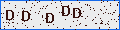D: (73, 8, 81, 18), (62, 6, 70, 16), (46, 13, 54, 23), (22, 11, 30, 21), (6, 10, 14, 20)
